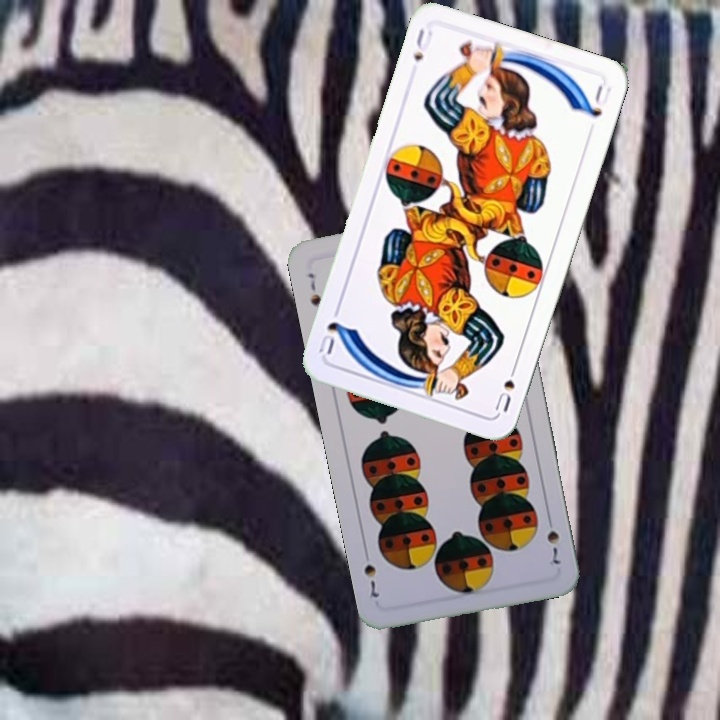S7: (542, 511, 562, 567), (303, 269, 324, 308)
SU: (490, 358, 521, 415), (409, 24, 435, 64)
